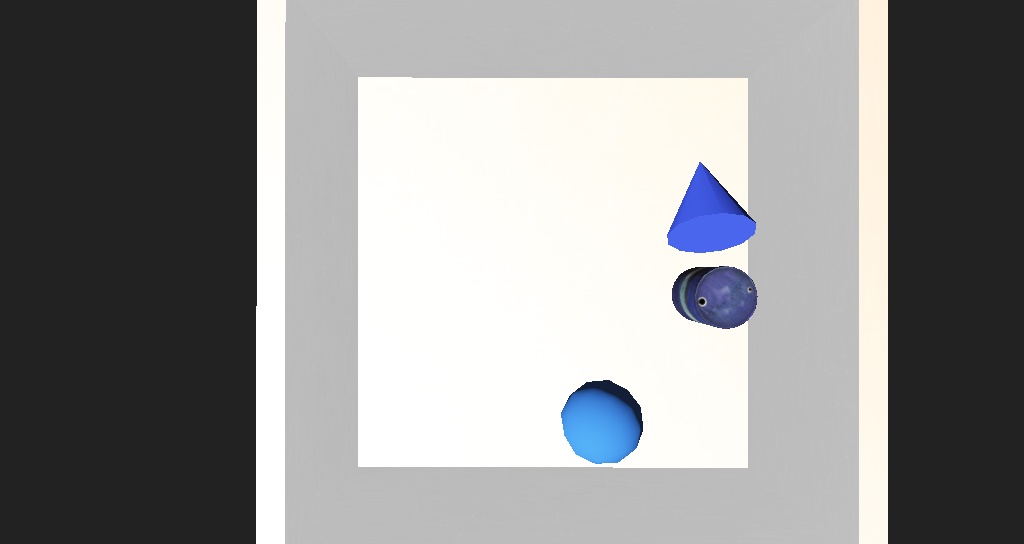cone: (600, 265, 653, 298)
cylinder: (589, 191, 664, 258)
sphere: (515, 324, 576, 372)
